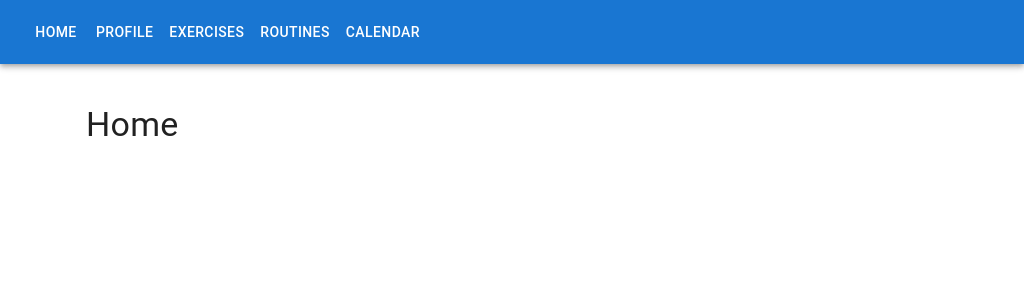
Exercise › should fail to add exercise because exercise name is too long.
Click the link "Exercises". click: click(207, 32)
box: [169, 24, 244, 40]
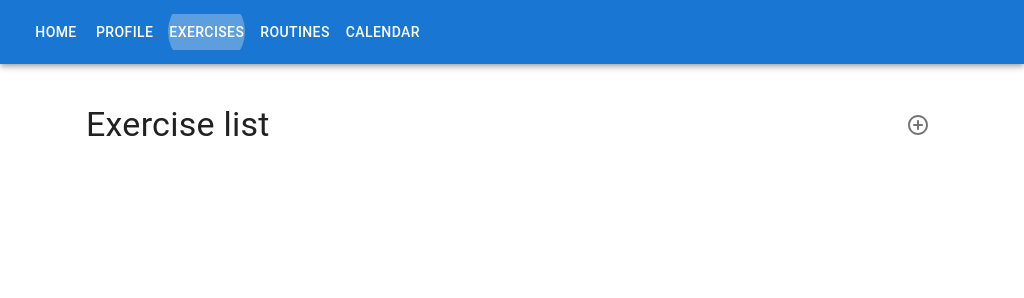
Result: the heading "Exercise list" is shown at [86, 104, 270, 146]
Click the icon with test id "AddCircleOutlineRoundedIcon". click: click(918, 125)
box: [906, 113, 930, 137]
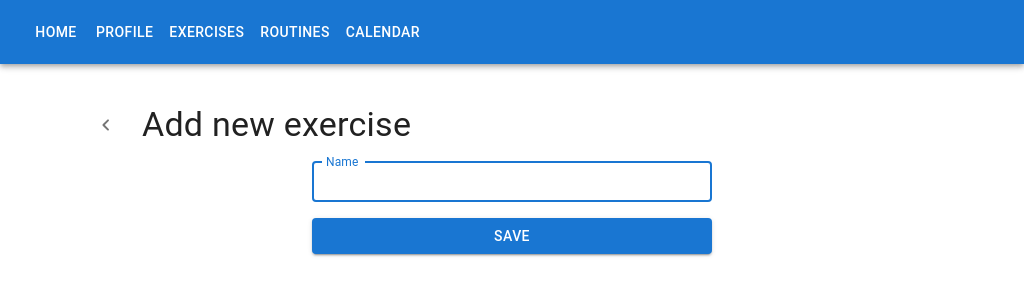
Type "abcdefghijklmnopqrstuvwxyz" into the field labelled "Name". click: (512, 182)
box: [312, 162, 712, 202]
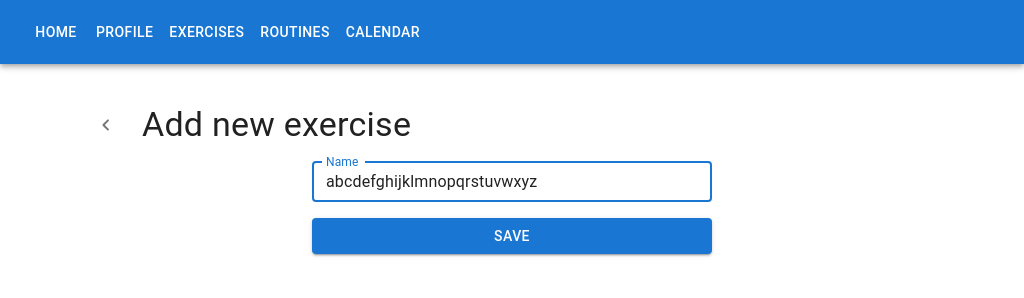
Click the button "Save". click: click(512, 237)
box: [312, 218, 712, 255]
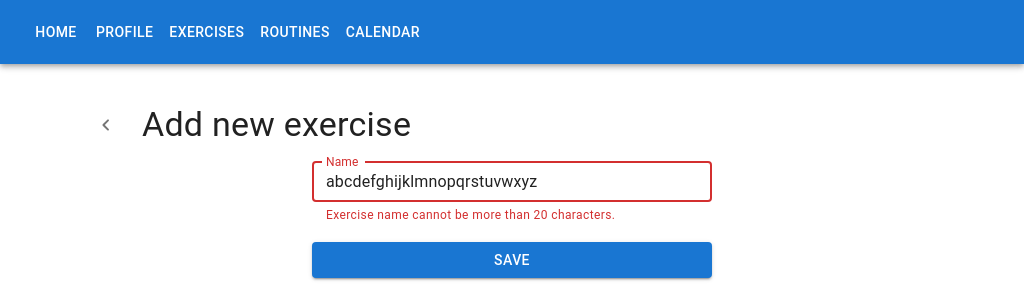
Result: the text "Exercise name cannot be more than 20 characters." is shown at [326, 208, 615, 222]
